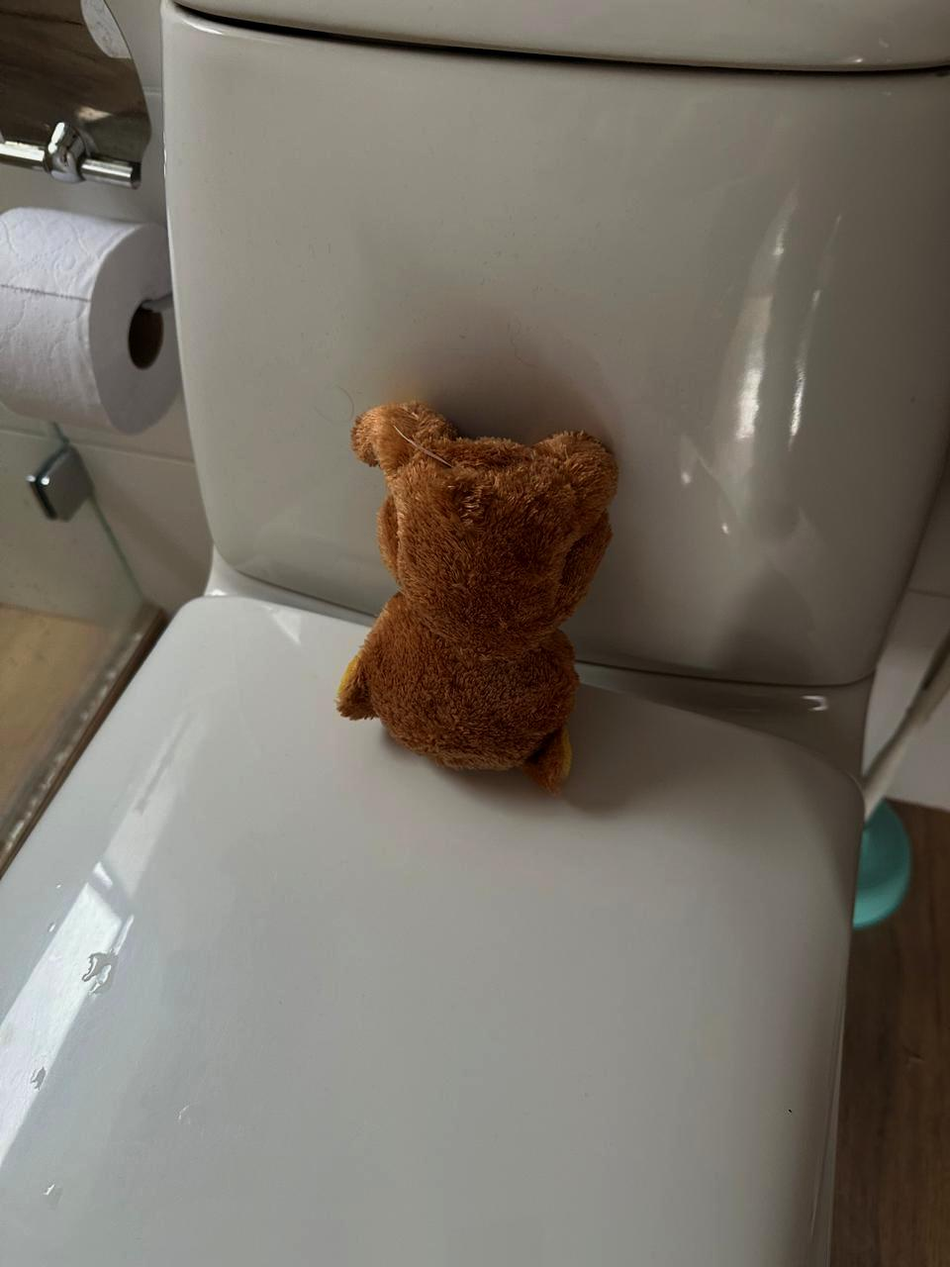peluche_sebastian: (327, 406, 628, 780)
